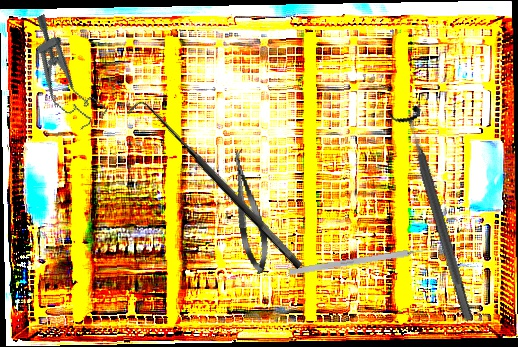Fixation Ring: (387, 103, 486, 326)
Hook Surgical: (126, 93, 305, 282), (288, 245, 437, 276)
Micro Scissor: (224, 147, 274, 276)
Speculum: (14, 9, 110, 136)
